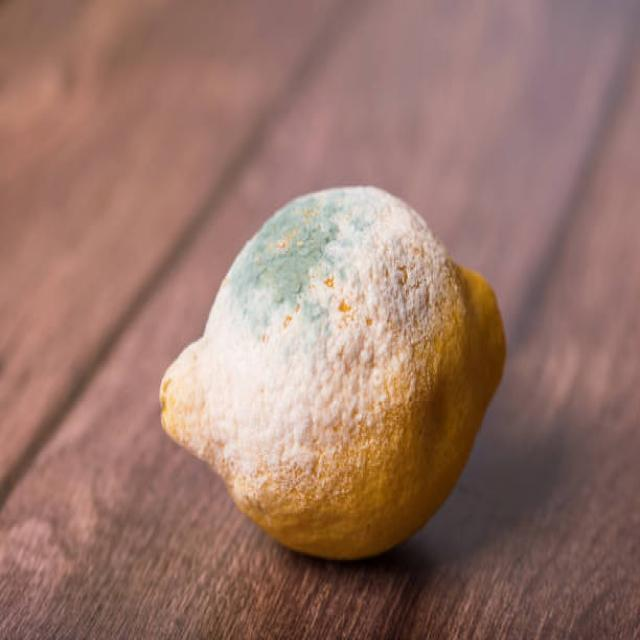Rotten: (159, 183, 506, 561)
